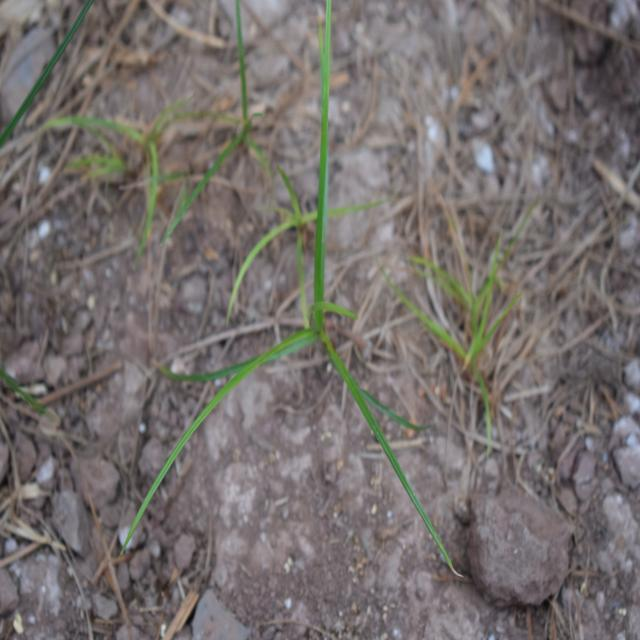sedge: (125, 81, 462, 526)
